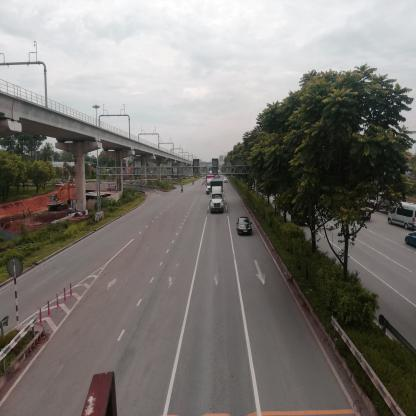car: (389, 200, 416, 235), (237, 218, 253, 236), (224, 178, 229, 183)
container: (211, 180, 225, 215)
motorbike: (181, 187, 185, 195), (193, 181, 196, 188)
